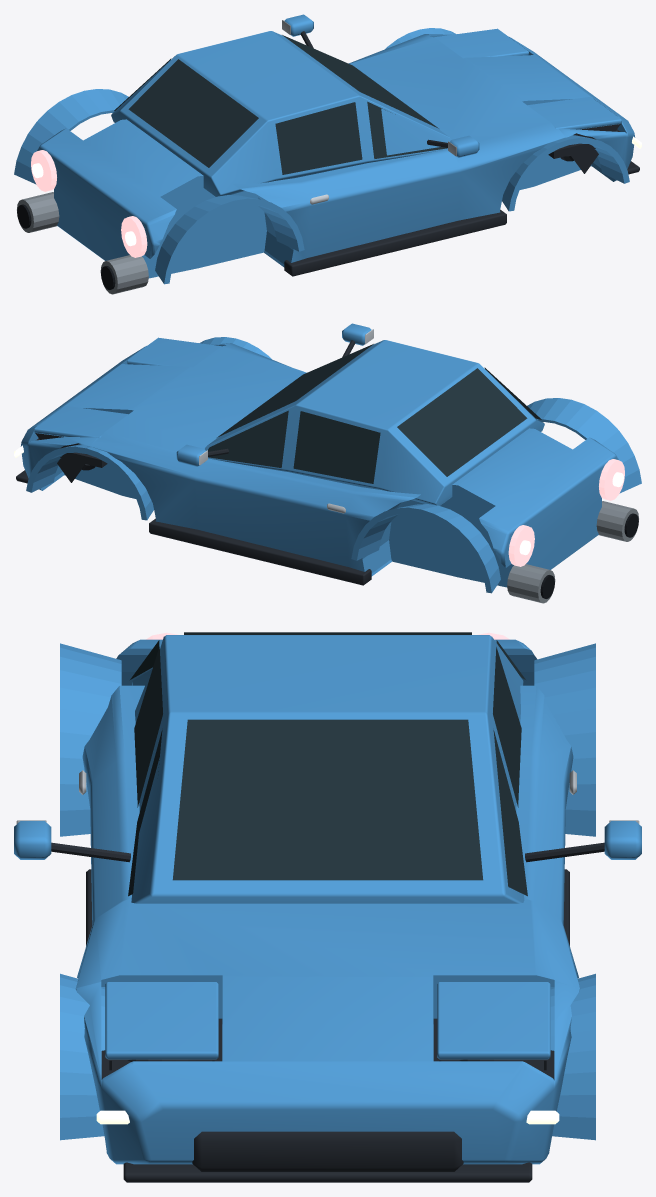
The model's file is miata.glb.
3 views of the same model, one above another, from view 1: azimuth 30°, elevation 25°; view 2: azimuth 150°, elevation 25°; view 3: azimuth 270°, elevation 25° (orthographic). The views are drawn at different scales.
Parts seen in each view (by area): view 1: body-paint, body-details, headlight-pod-left, headlight-pod-right; view 2: body-paint, body-details, headlight-pod-right, headlight-pod-left; view 3: body-paint, body-details, headlight-pod-left, headlight-pod-right.
Boxes of the visible parts, bbox=[...] form: body-paint: bbox=[14, 14, 635, 284]; body-details: bbox=[17, 20, 641, 294]; headlight-pod-left: bbox=[527, 96, 621, 173]; headlight-pod-right: bbox=[434, 28, 528, 58]; body-paint: bbox=[20, 323, 641, 593]; body-details: bbox=[14, 329, 638, 603]; headlight-pod-right: bbox=[34, 405, 128, 482]; headlight-pod-left: bbox=[127, 337, 221, 367]; body-paint: bbox=[14, 635, 641, 1164]; body-details: bbox=[16, 632, 639, 1182]; headlight-pod-left: bbox=[105, 982, 218, 1070]; headlight-pod-right: bbox=[437, 982, 550, 1070].
Bounding box in the file's own units: 1.33 × 0.3479 × 0.776.
